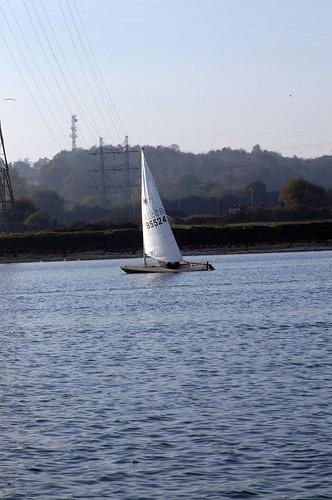boat: (116, 149, 218, 275)
